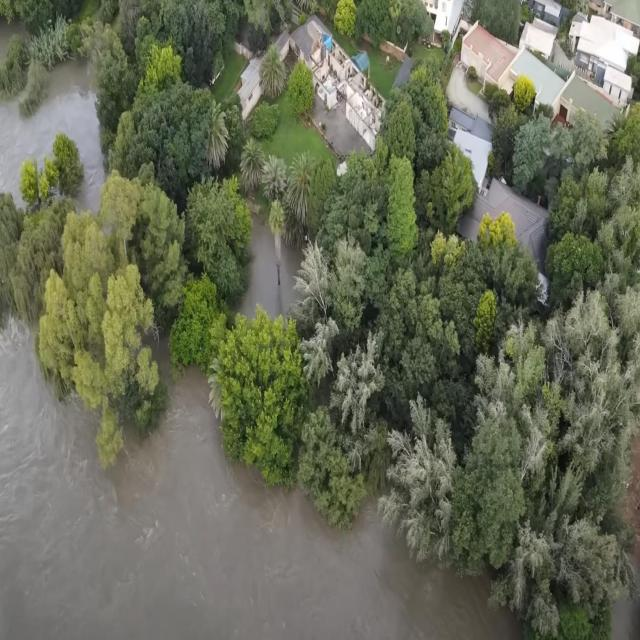flood: (0, 319, 523, 639), (0, 58, 104, 210), (238, 213, 302, 317), (0, 16, 27, 61)
house: (292, 17, 389, 153), (458, 162, 554, 282), (575, 12, 640, 107), (235, 30, 290, 128), (508, 46, 567, 128), (462, 24, 525, 100), (445, 104, 496, 194), (561, 70, 621, 141), (424, 0, 466, 51), (529, 0, 565, 36)
